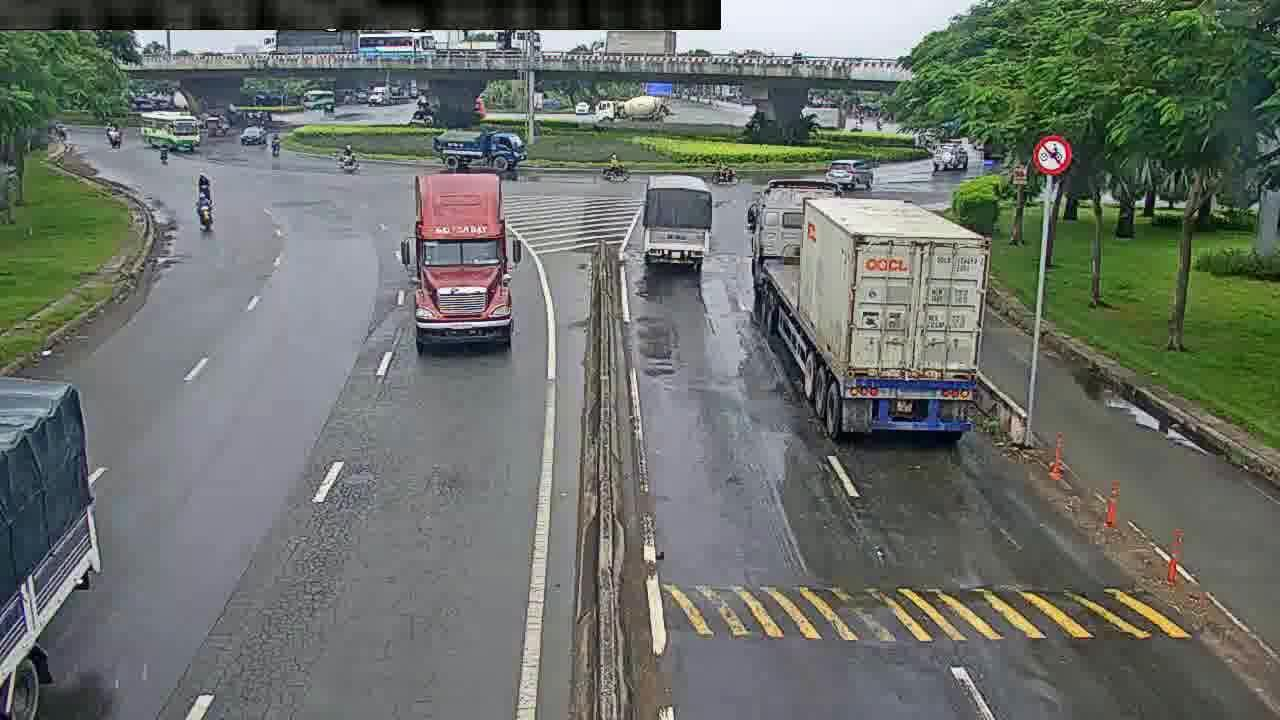8: (751, 173, 989, 436), (398, 165, 506, 376), (640, 175, 715, 263), (433, 131, 528, 167)
container: (823, 155, 874, 191)
motorbike: (195, 190, 218, 233), (194, 171, 215, 204)
